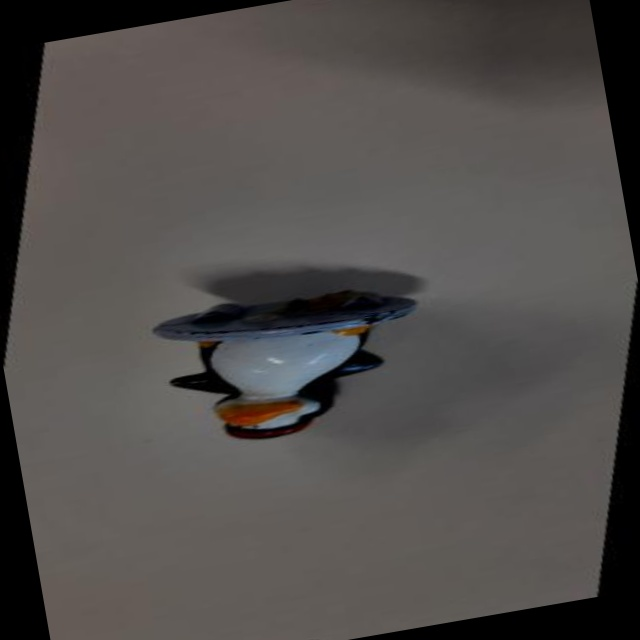Penguin: (123, 269, 431, 471)
